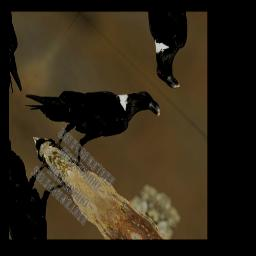Crow: (14, 21, 165, 199)
